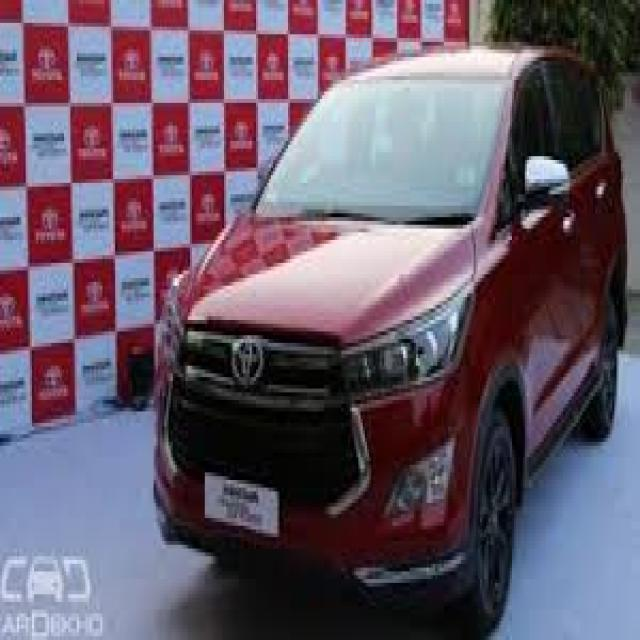light_vehicle: (154, 44, 628, 632)
